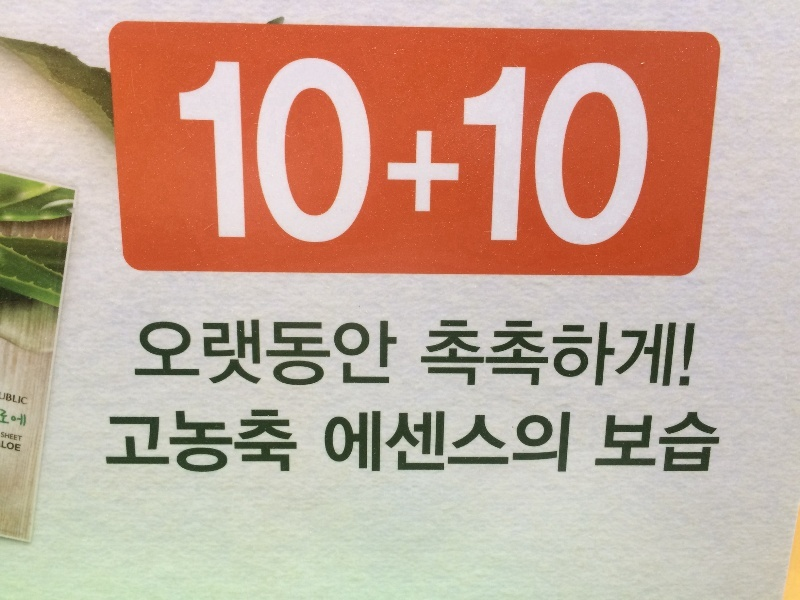text: (641, 57, 657, 259), (177, 57, 192, 259), (193, 57, 208, 259), (209, 57, 224, 259), (225, 57, 240, 259), (241, 57, 256, 259), (257, 57, 272, 259), (273, 57, 288, 259), (289, 57, 304, 259), (305, 57, 320, 259), (321, 57, 336, 259), (337, 57, 352, 259), (353, 57, 368, 259), (369, 57, 384, 259), (385, 57, 400, 259), (401, 57, 416, 259), (417, 57, 432, 259), (433, 57, 448, 259), (449, 57, 464, 259), (465, 57, 480, 259), (481, 57, 496, 259), (497, 57, 512, 259), (513, 57, 528, 259), (529, 57, 544, 259), (545, 57, 560, 259), (561, 57, 576, 259), (577, 57, 592, 259), (593, 57, 608, 259), (609, 57, 624, 259), (625, 57, 640, 259), (385, 321, 401, 388), (145, 321, 160, 388), (161, 321, 176, 388), (177, 321, 192, 388), (193, 321, 208, 388), (209, 321, 224, 388), (225, 321, 240, 388), (241, 321, 256, 388), (257, 321, 272, 388), (273, 321, 288, 388), (289, 321, 304, 388), (305, 321, 320, 388), (321, 321, 336, 388), (337, 321, 352, 388), (353, 321, 368, 388), (369, 321, 384, 388), (433, 321, 448, 387), (449, 321, 464, 387), (465, 321, 480, 387), (481, 321, 496, 387), (497, 321, 512, 387), (513, 321, 528, 387), (529, 321, 544, 387), (545, 321, 560, 387), (561, 321, 576, 387), (577, 321, 592, 387), (593, 321, 608, 387), (609, 321, 624, 387), (625, 321, 640, 387), (641, 321, 656, 387), (657, 321, 672, 387), (673, 321, 688, 387), (113, 409, 128, 475), (129, 409, 144, 475), (145, 409, 160, 475), (161, 409, 176, 475), (177, 409, 192, 475), (193, 409, 208, 475), (209, 409, 224, 475), (225, 409, 240, 475), (241, 409, 256, 475), (257, 409, 272, 475), (273, 409, 288, 475), (609, 413, 624, 474), (625, 413, 640, 474), (641, 413, 656, 474), (657, 413, 672, 474), (673, 413, 688, 474), (689, 413, 704, 474), (705, 413, 720, 474), (337, 413, 352, 473), (353, 413, 368, 473), (369, 413, 384, 473), (385, 413, 400, 473), (401, 413, 416, 473), (417, 413, 432, 473), (433, 413, 448, 473), (449, 413, 464, 473), (465, 413, 480, 473), (481, 413, 496, 473), (497, 413, 512, 473), (513, 413, 528, 473), (529, 413, 544, 473), (545, 413, 560, 473), (289, 409, 299, 475), (173, 57, 176, 259), (326, 413, 336, 473), (561, 413, 571, 473), (689, 321, 696, 387), (1, 409, 16, 427), (1, 391, 16, 405), (109, 409, 112, 475), (17, 391, 29, 405), (17, 409, 26, 427), (1, 432, 16, 442), (2, 441, 16, 451), (143, 321, 144, 388), (607, 413, 608, 474), (721, 413, 722, 474), (17, 432, 22, 442), (17, 441, 21, 451)
